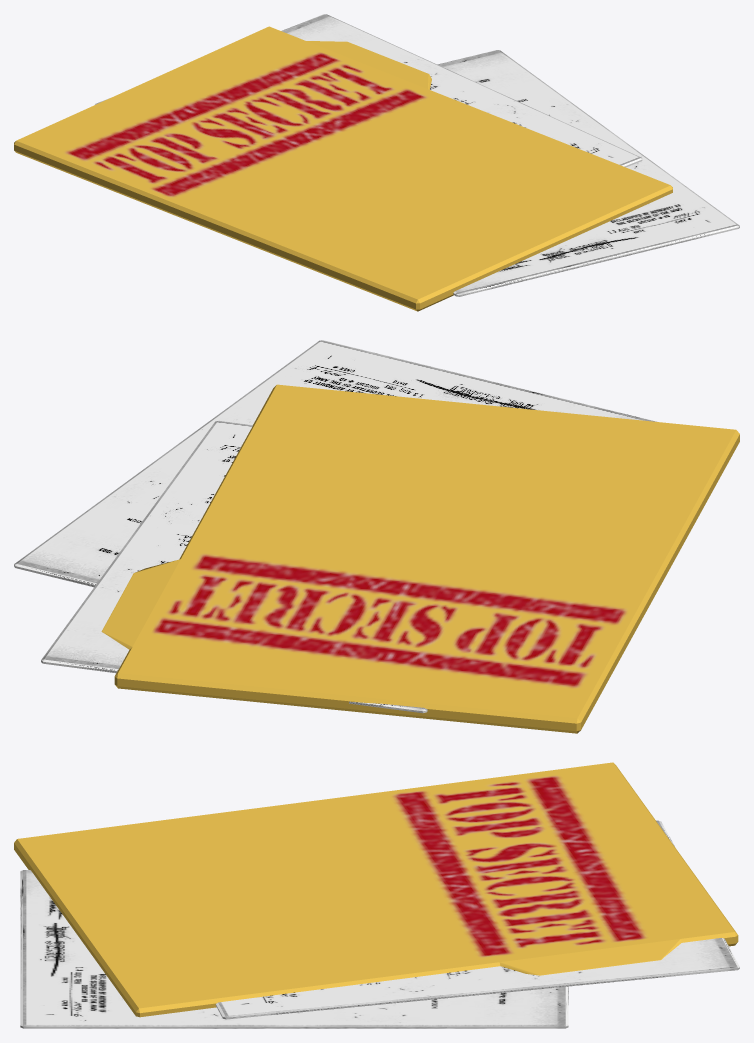
File: b_documents.fbx
The picture shows the model from 3 angles, top to bottom: view 1: azimuth 30°, elevation 25°; view 2: azimuth 150°, elevation 25°; view 3: azimuth 270°, elevation 25°; orthographic projection. The views are drawn at different scales.
Parts seen in each view (by area): view 1: pCube2, pCube1, pCube3; view 2: pCube2, pCube1, pCube3; view 3: pCube2, pCube1, pCube3.
Part boxes in pixels (x1,y1,x2,y2): pCube2: (14,26,672,311); pCube1: (437,50,739,296); pCube3: (95,14,642,167); pCube2: (101,384,739,733); pCube1: (14,340,657,587); pCube3: (41,420,427,713); pCube2: (14,762,738,1017); pCube1: (20,870,568,1028); pCube3: (215,820,739,1019).
Bounding box in the file's own units: 0.0659 × 0.00164 × 0.0785.
